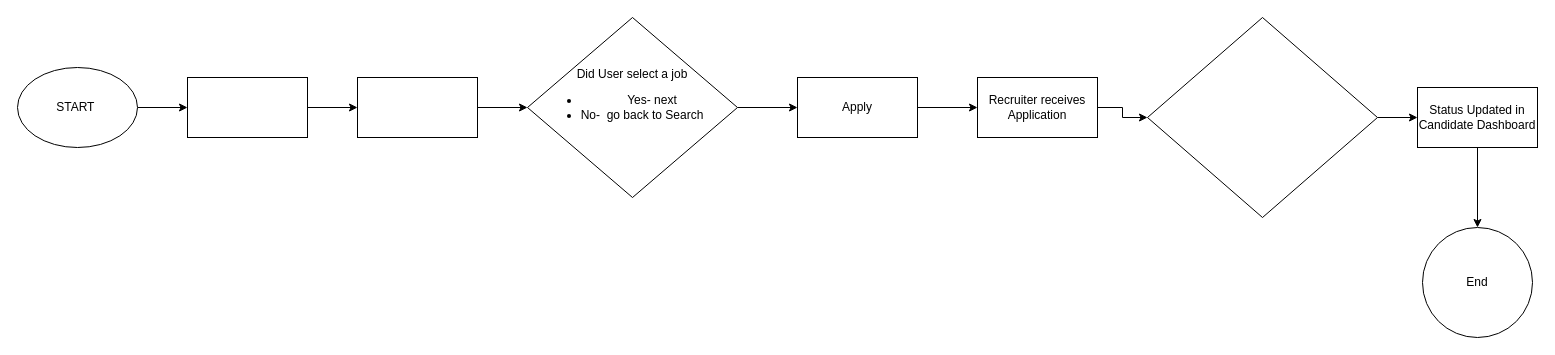
Image size: 1555x355. Some labels were removed from this diagram. Here are the shapes that lost their labels. From the top down, the centre of each, then its label:
At (247,107): "USER LOGIN".
At (417,107): "Search Jobs Using Filters".
At (1262,117): "Recruiter Update status Yes - Next No - Wait".
